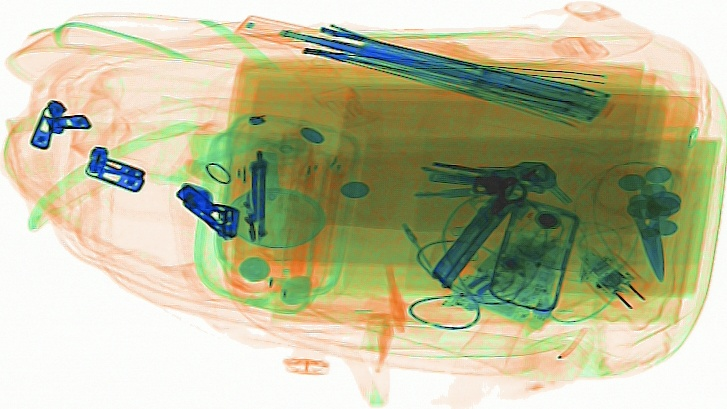scissors: (596, 164, 687, 284)
